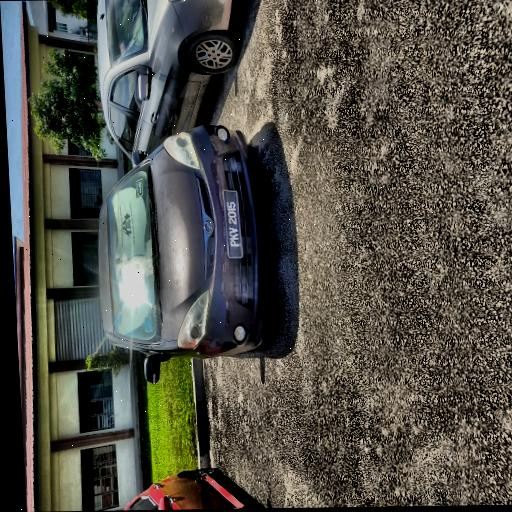license_plate: (220, 192, 243, 258)
